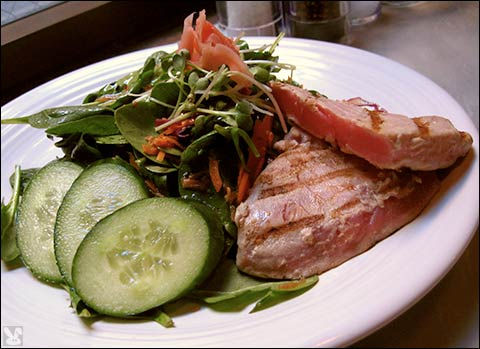cucumber: (71, 194, 209, 316), (54, 156, 148, 296), (12, 157, 87, 288)
